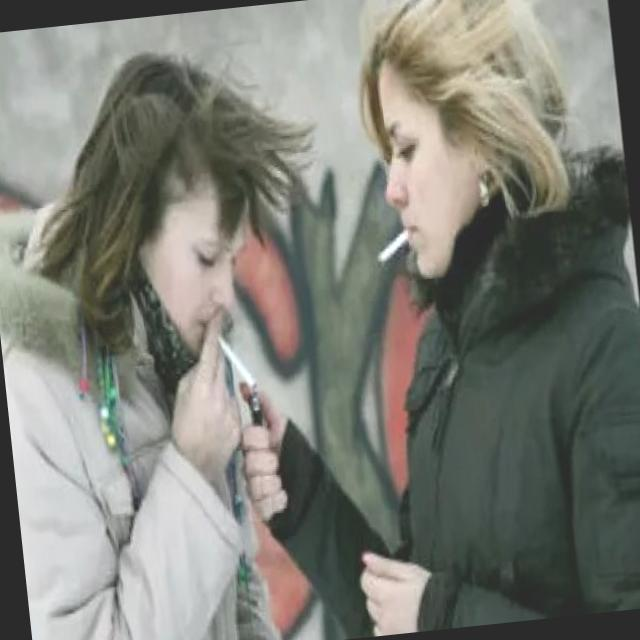cigarette: (213, 324, 266, 397), (371, 225, 419, 270)
